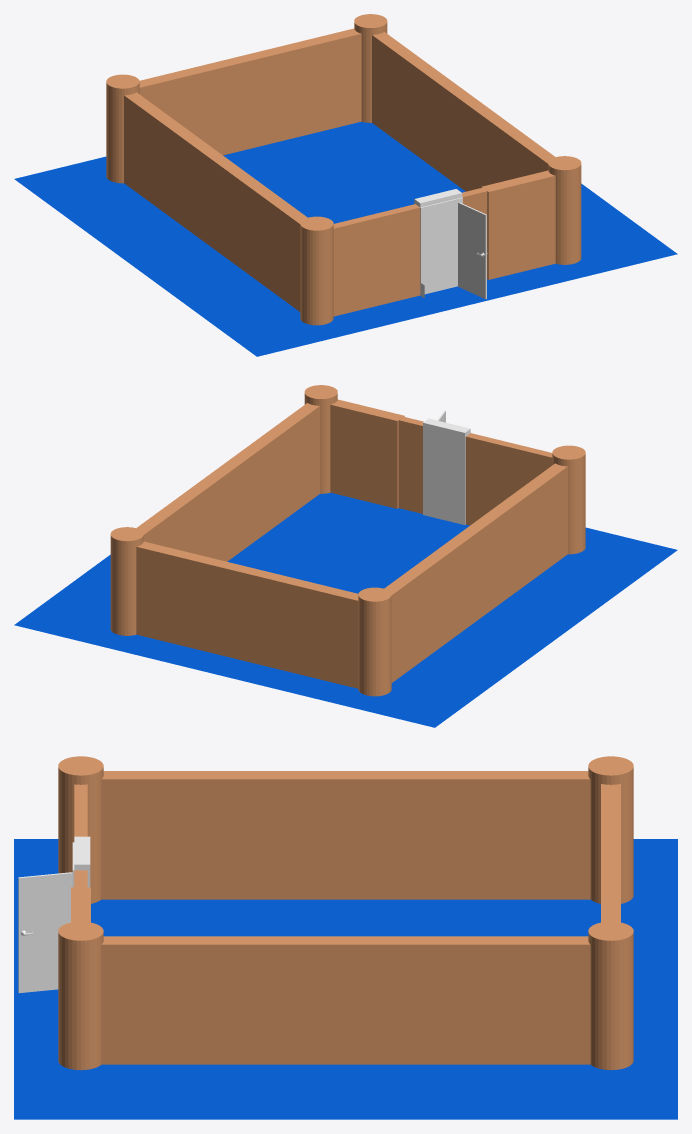
File: casa 4.glb
3 renders of one model, top to bottom at view 1: azimuth 30°, elevation 25°; view 2: azimuth 150°, elevation 25°; view 3: azimuth 270°, elevation 25°, orthographic. The views are drawn at different scales.
Visible parts, largest first — view 1: Cylinder; view 2: Cylinder; view 3: Cylinder.
Part boxes in pixels (x1,y1,x2,y2): Cylinder: [14, 14, 677, 356]; Cylinder: [14, 385, 677, 727]; Cylinder: [14, 756, 677, 1119].
Bounding box in the file's own units: 10.02 × 2.31 × 10.02.
